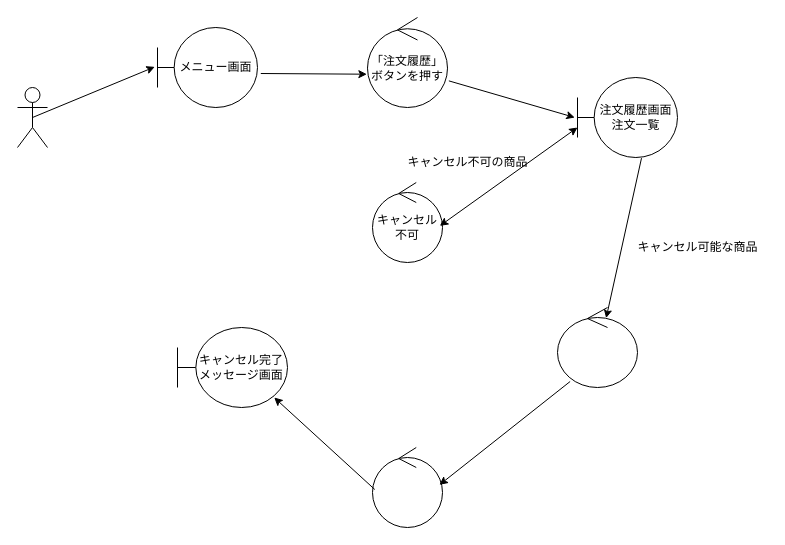
The diagram is 785 pixels wide and 545 high, and some of its shapes have lost their labels. The shapes that lost their labels are listed below. From the top down, each one's centre as x and y in pixels, then its label:
pixel 32 117: 顧客
pixel 597 347: 「キャンセル」ボタンを押す
pixel 407 487: キャンセル済み
